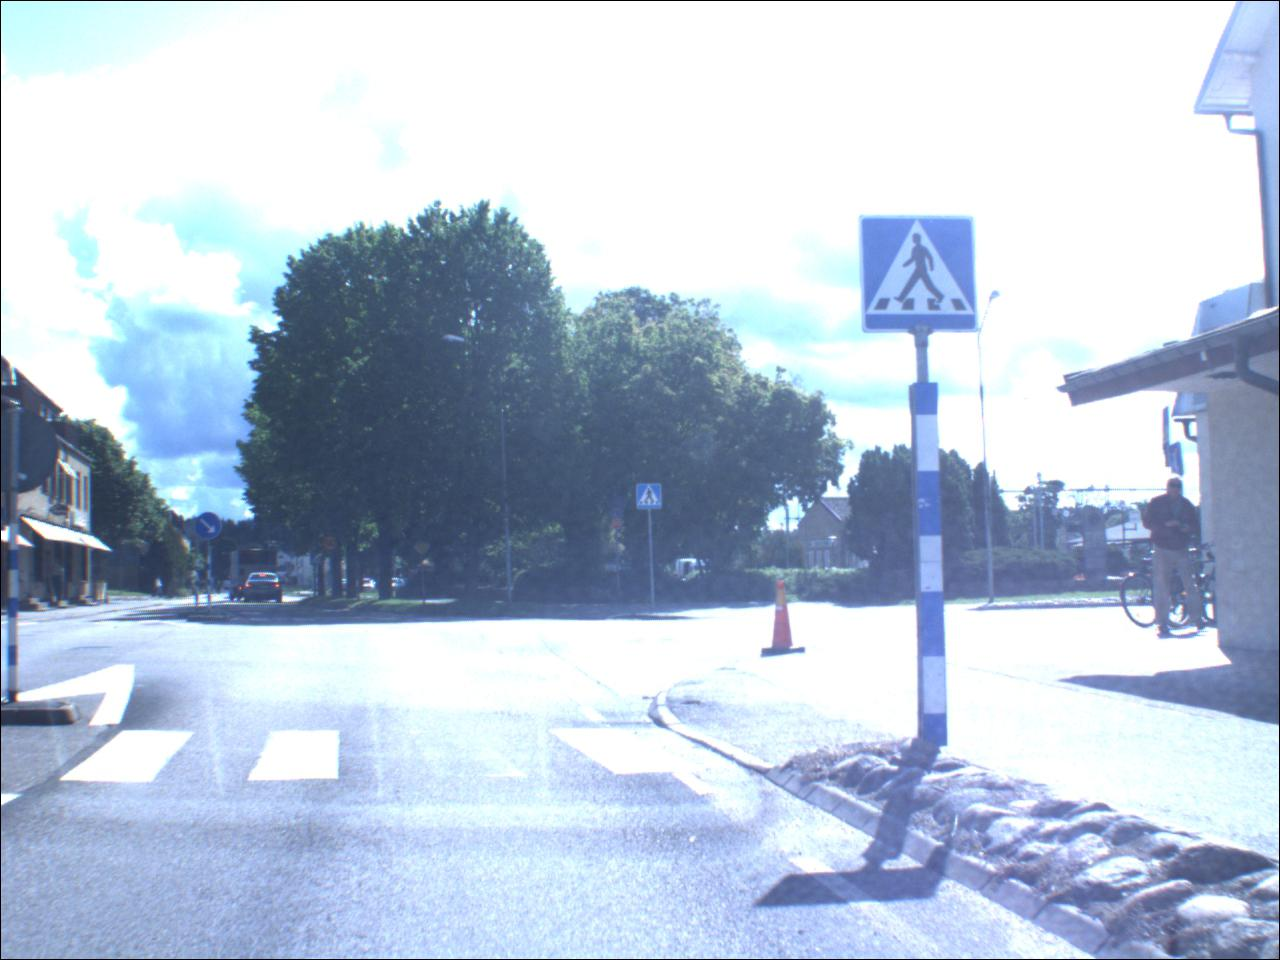50_SIGN: (325, 535, 341, 553)
PASS_RIGHT_SIDE: (197, 511, 225, 542)
PEDESTRIAN_CROSSING: (862, 218, 981, 334), (639, 486, 665, 513), (311, 553, 325, 567)
PRIORITY_ROAD: (415, 538, 434, 558)
